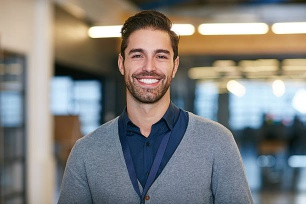male: (116, 23, 181, 102)
